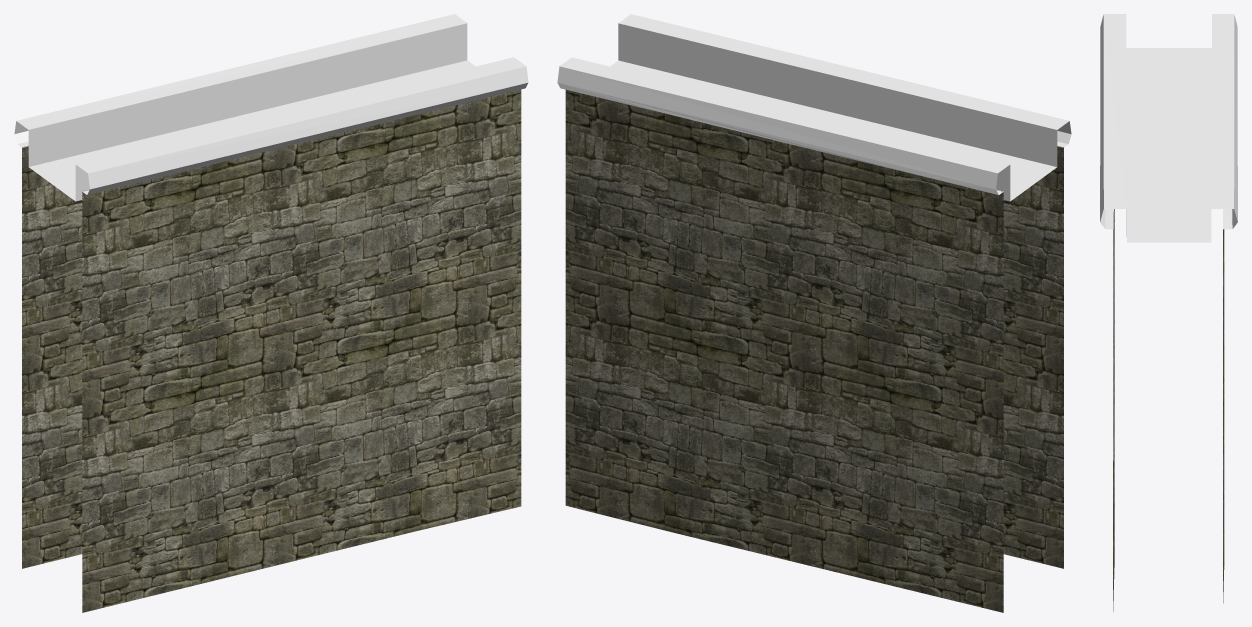
File: wall1_LOD2.fbx
3 renders of one model, left to right at view 1: azimuth 30°, elevation 25°; view 2: azimuth 150°, elevation 25°; view 3: azimuth 270°, elevation 25°, orthographic. The views are drawn at different scales.
Visible parts, largest first — view 1: Default_Layer; view 2: Default_Layer; view 3: Default_Layer.
Part boxes in pixels (box(x1,y1,x2,y2)): Default_Layer: box(14, 14, 528, 612); Default_Layer: box(557, 14, 1071, 612); Default_Layer: box(1100, 14, 1237, 611).
Bounding box in the file's own units: 2038 × 1971 × 609.
